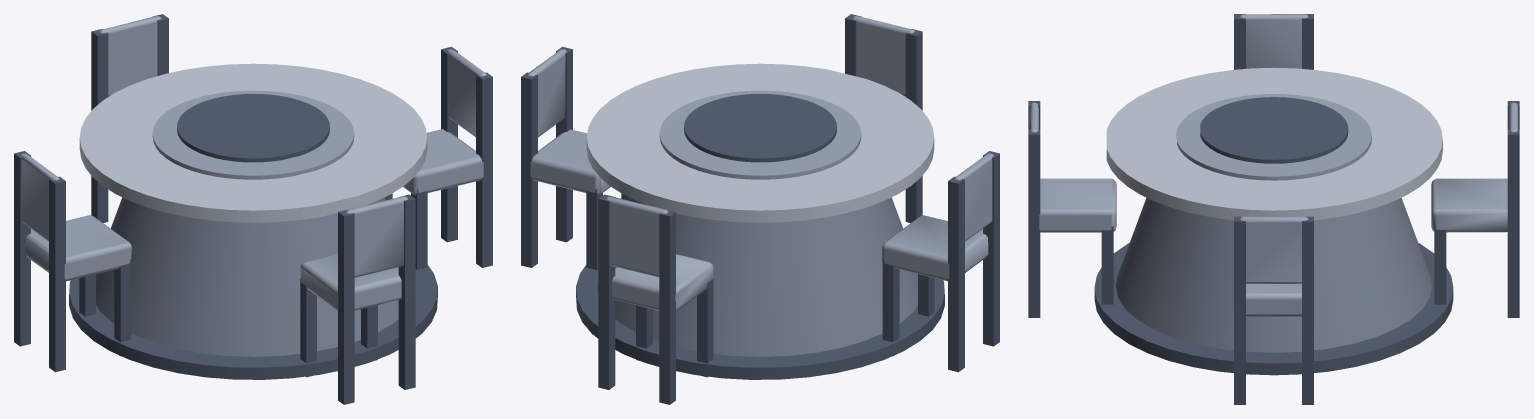
Rendered from rounddiningtable_turntable-lite.glb.
3 views of the same model, side by side, from view 1: azimuth 30°, elevation 25°; view 2: azimuth 150°, elevation 25°; view 3: azimuth 270°, elevation 25° (orthographic). The views are drawn at different scales.
Parts seen in each view (by area): view 1: rounddiningtable_turntable; view 2: rounddiningtable_turntable; view 3: rounddiningtable_turntable.
Boxes of the visible parts, <box> form: rounddiningtable_turntable: <box>14,14,492,404</box>; rounddiningtable_turntable: <box>521,14,999,404</box>; rounddiningtable_turntable: <box>1028,14,1519,404</box>.
Bounding box in the file's own units: 2.05 × 0.852 × 2.05.
